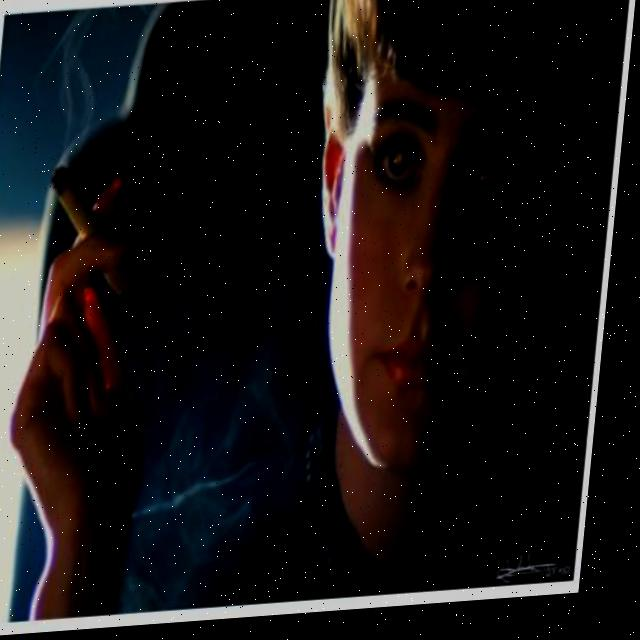cigarette: (46, 158, 147, 312)
